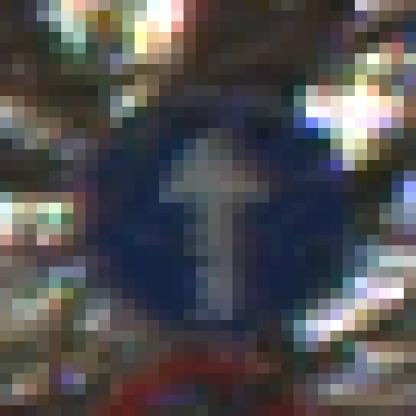AheadOnly: (62, 65, 344, 353)
